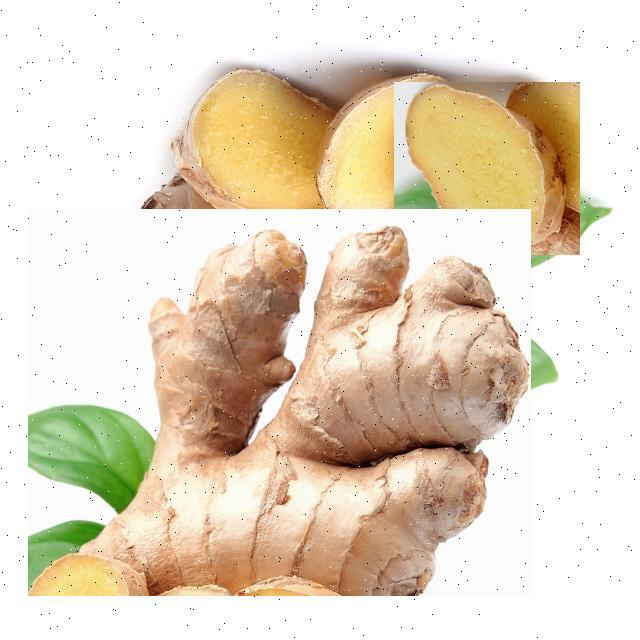ginger: (28, 209, 531, 596), (394, 82, 580, 255)
